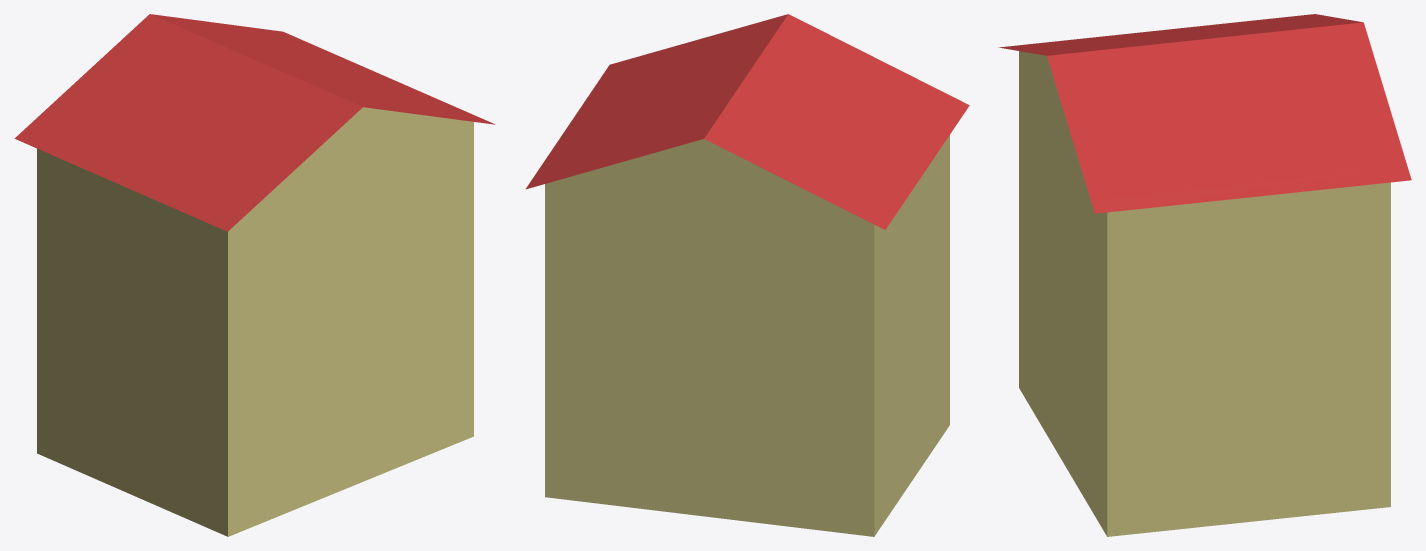
3 renders of one model, left to right at view 1: azimuth 30°, elevation 25°; view 2: azimuth 150°, elevation 25°; view 3: azimuth 270°, elevation 25°, orthographic. The views are drawn at different scales.
Bounding box in the file's own units: 13.66 × 12.14 × 13.24.
